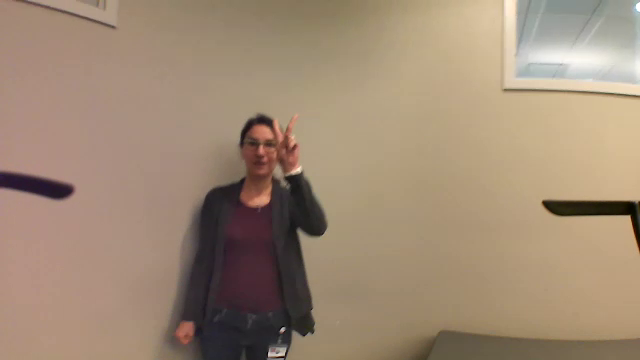peace: (263, 107, 307, 176)
